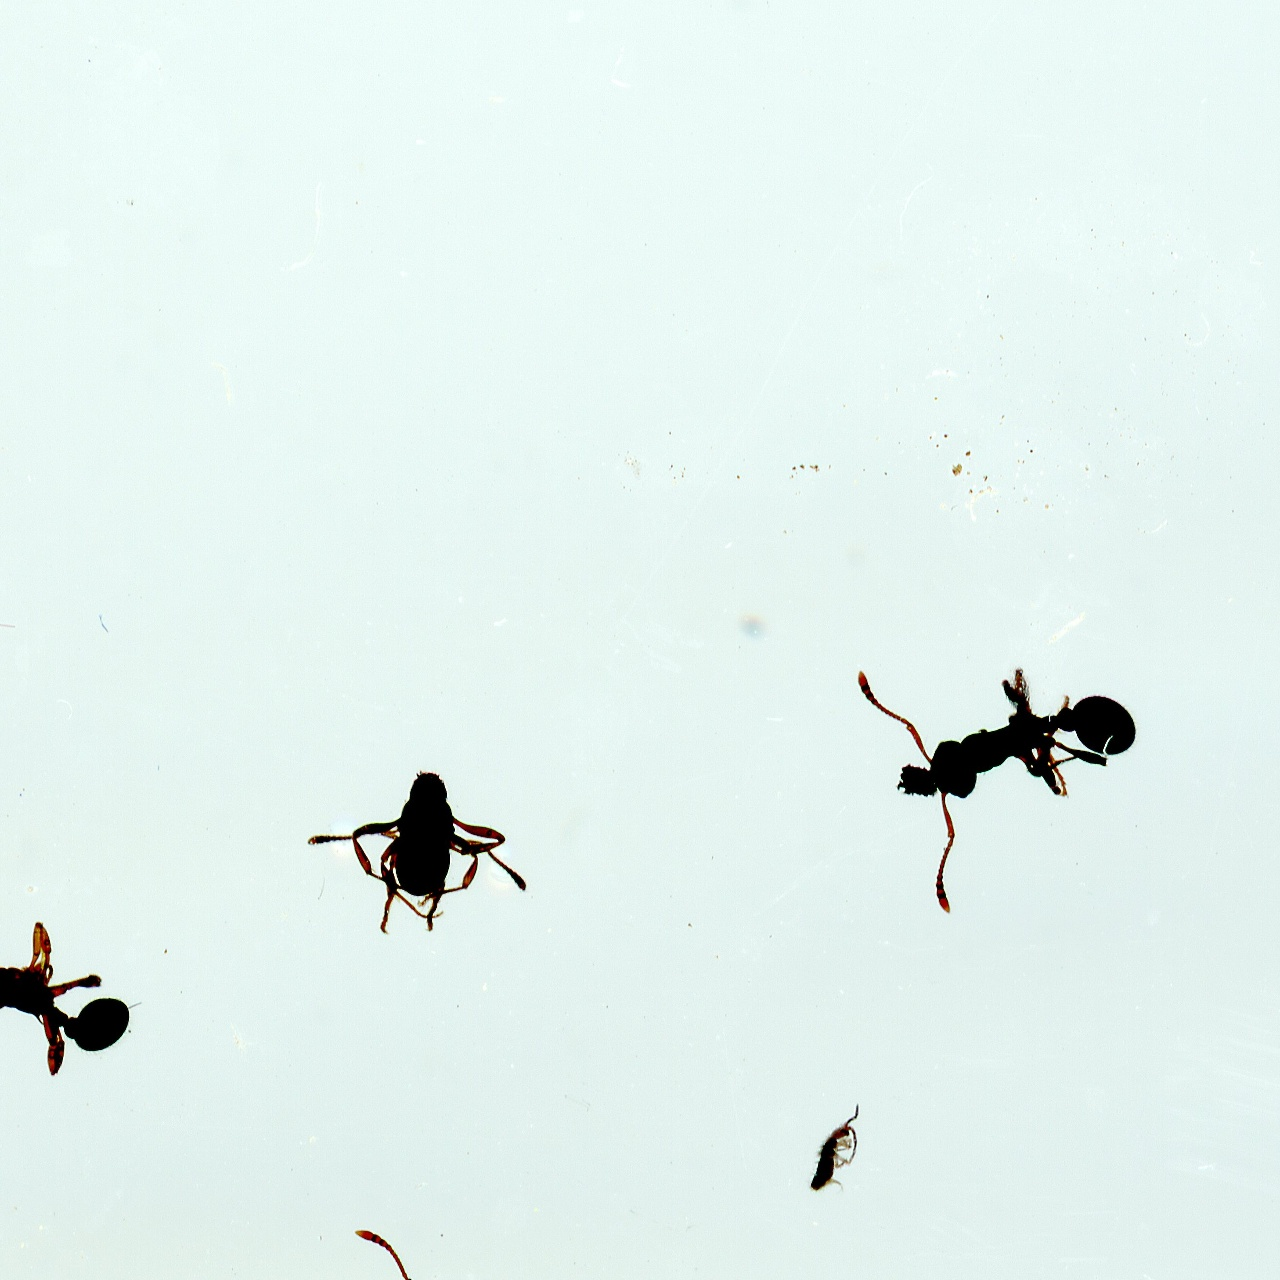arthropod: (857, 662, 1176, 912), (302, 767, 532, 938), (0, 836, 135, 1080), (247, 1207, 588, 1280), (809, 1103, 862, 1196)
